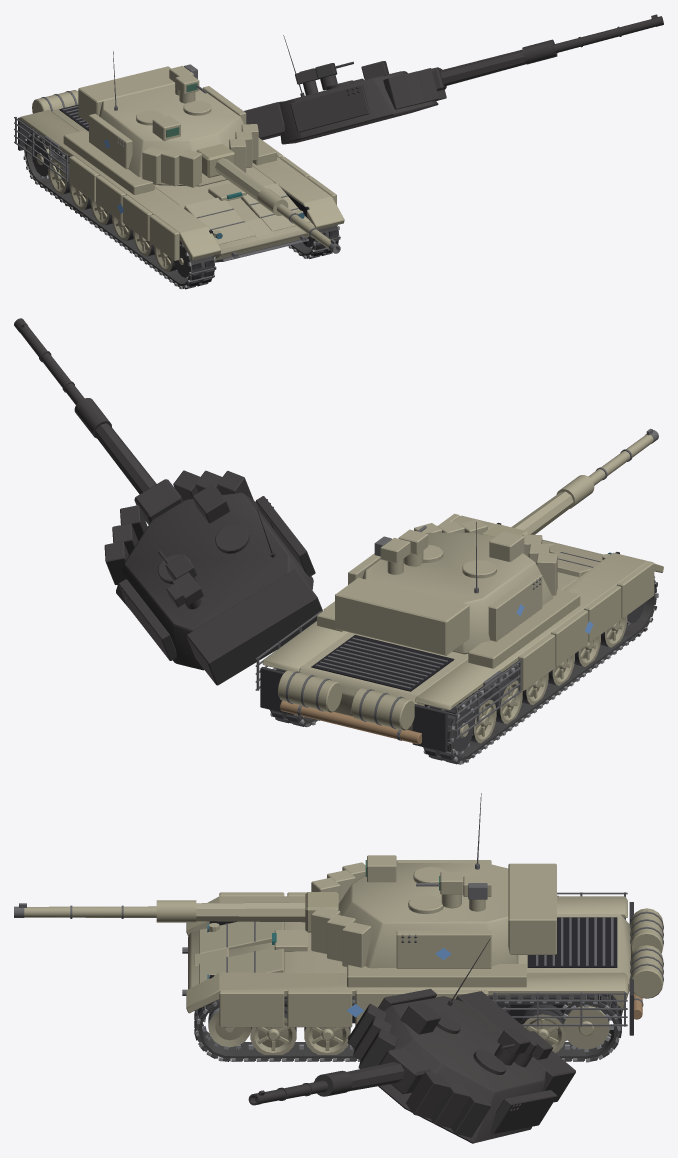
Rendered from tank__karrar.glb.
3 renders of one model, top to bottom at view 1: azimuth 30°, elevation 25°; view 2: azimuth 150°, elevation 25°; view 3: azimuth 270°, elevation 25°, orthographic. The views are drawn at different scales.
Parts seen in each view (by area): view 1: Hull_Mesh, Wreck, Turret_Mesh, Gun_Mesh, Track_L_Mesh, Track_R_Mesh, Wheel_L0_Mesh, Gunner_Sight_Mesh, CITV_Mesh, Sprocket_L_Mesh; view 2: Wreck, Hull_Mesh, Turret_Mesh, Track_L_Mesh, Gun_Mesh, CROWS_Mesh, Wheel_L1_Mesh, Gunner_Sight_Mesh, Wheel_L0_Mesh, CITV_Mesh; view 3: Hull_Mesh, Wreck, Turret_Mesh, Gun_Mesh, Track_R_Mesh, Sprocket_R_Mesh, Wheel_R0_Mesh, Wheel_R5_Mesh, Wheel_R4_Mesh, CROWS_Mesh, Idler_R_Mesh, Gunner_Sight_Mesh (+2 smaller).
Part boxes in pixels (bbox=[...]): Hull_Mesh: bbox=[14, 90, 344, 262]; Wreck: bbox=[23, 14, 663, 288]; Turret_Mesh: bbox=[78, 66, 258, 187]; Gun_Mesh: bbox=[196, 144, 340, 253]; Track_L_Mesh: bbox=[23, 131, 215, 289]; Track_R_Mesh: bbox=[288, 225, 340, 258]; Wheel_L0_Mesh: bbox=[48, 157, 70, 194]; Gunner_Sight_Mesh: bbox=[152, 115, 180, 140]; CITV_Mesh: bbox=[175, 74, 199, 103]; Sprocket_L_Mesh: bbox=[31, 139, 59, 179]; Wreck: bbox=[14, 318, 658, 762]; Hull_Mesh: bbox=[255, 513, 663, 752]; Turret_Mesh: bbox=[335, 519, 557, 655]; Track_L_Mesh: bbox=[423, 576, 658, 764]; Gun_Mesh: bbox=[481, 428, 658, 537]; CROWS_Mesh: bbox=[374, 525, 426, 574]; Wheel_L1_Mesh: bbox=[482, 678, 522, 724]; Gunner_Sight_Mesh: bbox=[489, 531, 524, 561]; Wheel_L0_Mesh: bbox=[469, 697, 496, 743]; CITV_Mesh: bbox=[398, 529, 428, 566]; Hull_Mesh: bbox=[182, 892, 663, 1035]; Wreck: bbox=[195, 938, 621, 1143]; Turret_Mesh: bbox=[311, 860, 556, 968]; Gun_Mesh: bbox=[14, 892, 338, 932]; Track_R_Mesh: bbox=[194, 994, 621, 1062]; Sprocket_R_Mesh: bbox=[562, 1004, 613, 1052]; Wheel_R0_Mesh: bbox=[519, 1004, 565, 1052]; Wheel_R5_Mesh: bbox=[250, 1006, 296, 1054]; Wheel_R4_Mesh: bbox=[304, 1027, 350, 1054]; CROWS_Mesh: bbox=[416, 876, 491, 911]; Idler_R_Mesh: bbox=[208, 1006, 251, 1047]; Gunner_Sight_Mesh: bbox=[365, 855, 396, 882].
Size of what is drawn, in the model's own units: 11.53 by 3.42 by 10.13.
